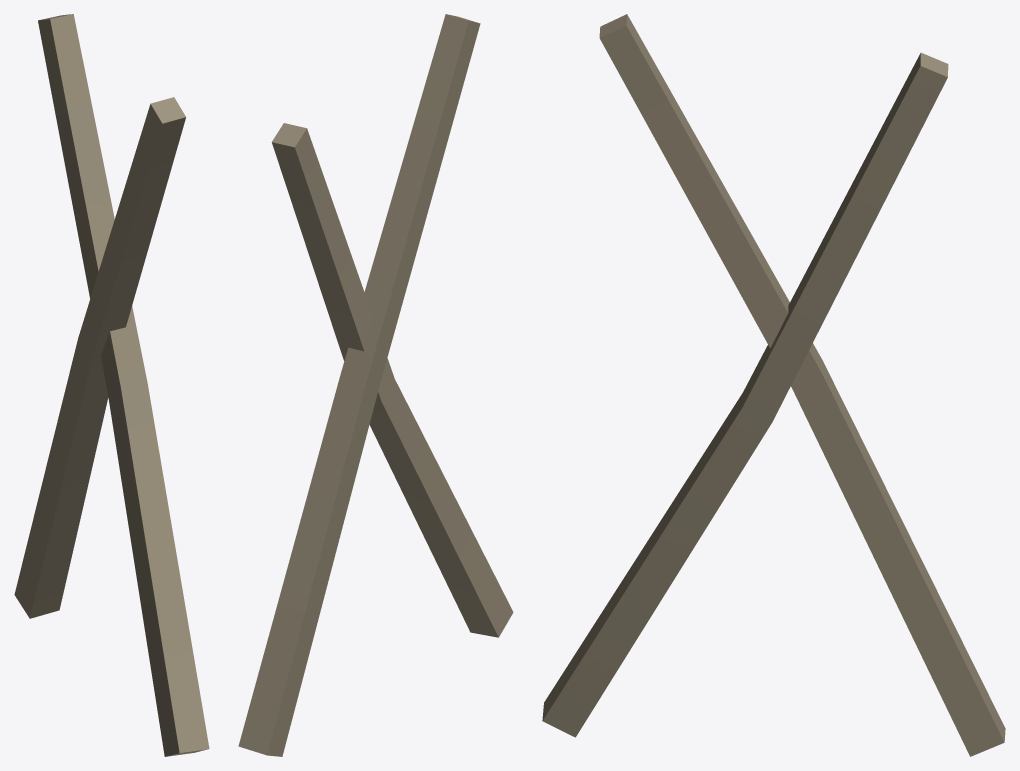
File: BuckFenceBuck.fbx
The picture shows the model from 3 angles, left to right: view 1: azimuth 30°, elevation 25°; view 2: azimuth 150°, elevation 25°; view 3: azimuth 270°, elevation 25°; orthographic projection. The views are drawn at different scales.
Parts seen in each view (by area): view 1: BuckFenceBuck; view 2: BuckFenceBuck; view 3: BuckFenceBuck.
Part boxes in pixels (<box>): BuckFenceBuck: <box>14,14,209,756</box>; BuckFenceBuck: <box>238,14,513,756</box>; BuckFenceBuck: <box>542,14,1005,756</box>.
Bounding box in the file's own units: 0.1364 × 1.18 × 0.6925.
